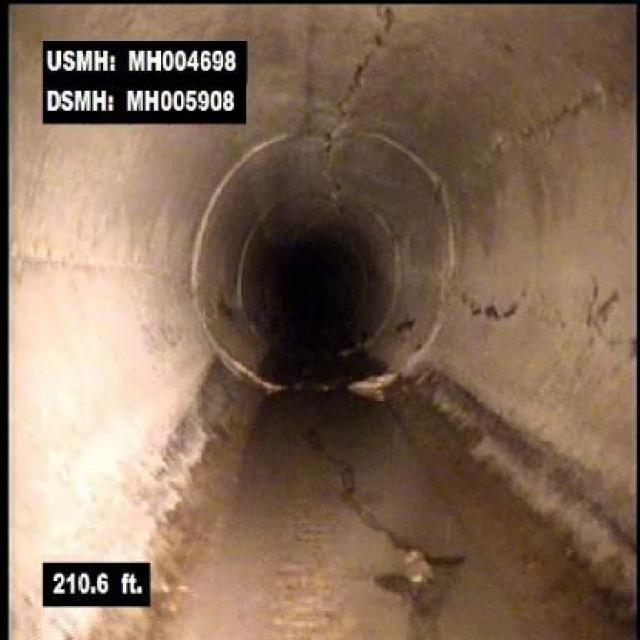Buckling: (343, 492, 471, 638)
Crack: (460, 277, 629, 346), (495, 85, 617, 157), (335, 8, 397, 112)
